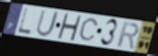3: (99, 18, 121, 47)
C: (78, 18, 99, 42)
H: (57, 12, 83, 42)
L: (16, 6, 33, 36)
R: (116, 21, 140, 50)
U: (35, 8, 61, 38)
